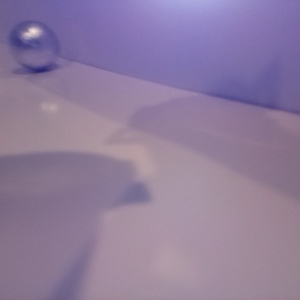alive_ball: (10, 21, 60, 70)
